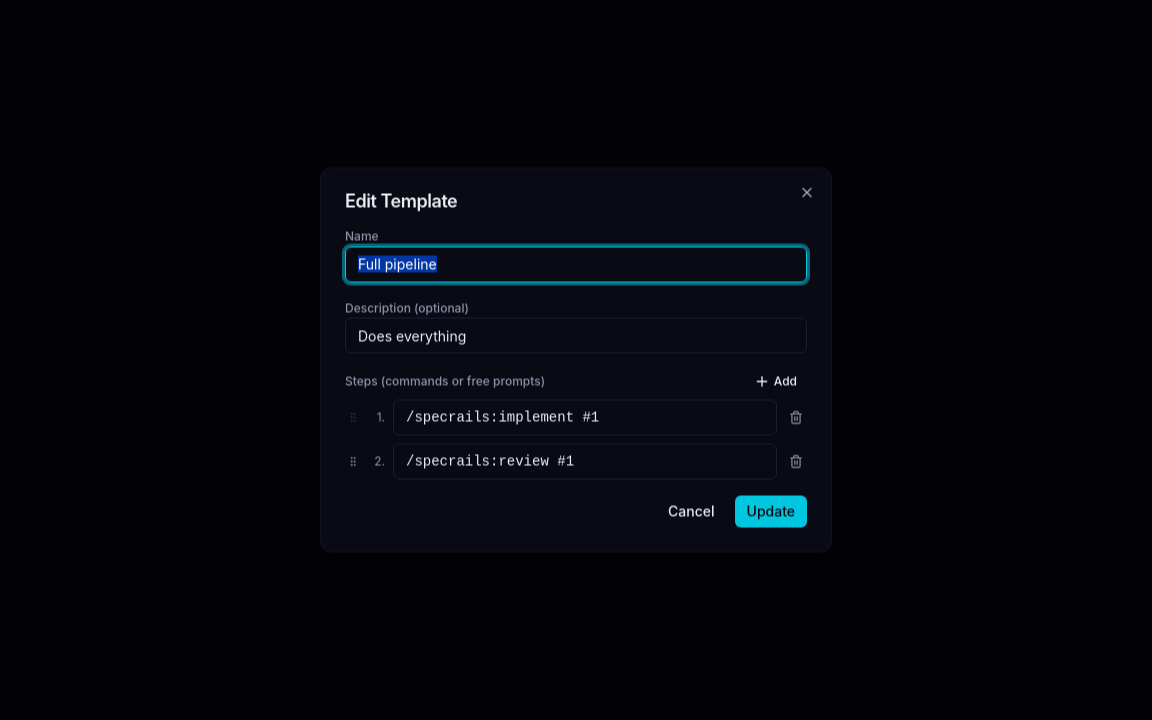
Test: CreateTemplateDialog › moves command up via the move button
// First "Move up" is disabled (index 0), second is for index 1
Click the 2nd button named "Move up" at (353, 462), box [345,454,361,470]
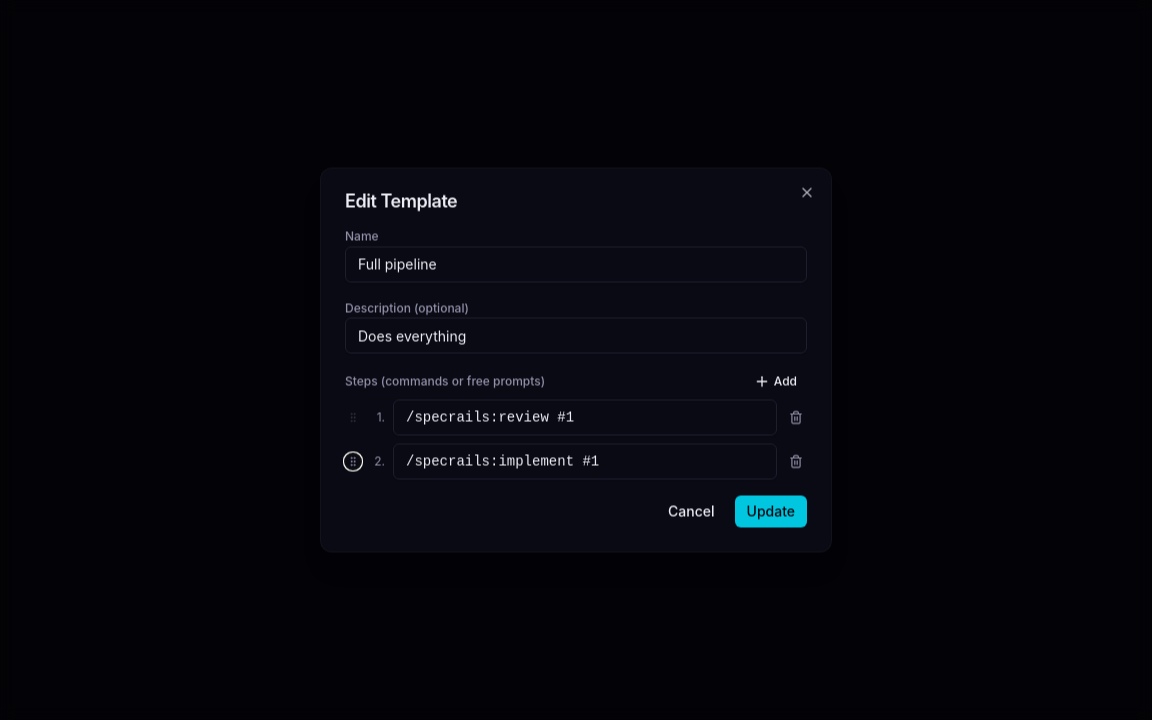
Now the 3rd field with placeholder "Select a command or type a free prompt..." holds "/specrails:review #1", box [393,400,777,436]
Now the 4th field with placeholder "Select a command or type a free prompt..." holds "/specrails:implement #1", box [393,444,777,480]
